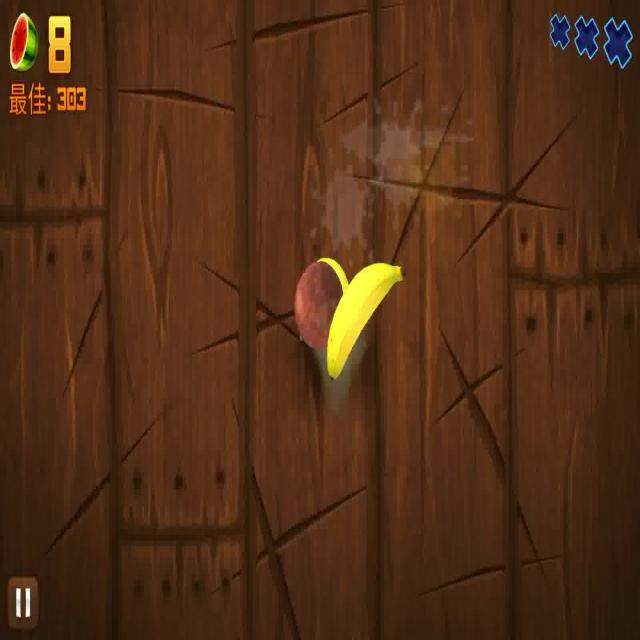fruit: (325, 224, 405, 384), (294, 252, 344, 346)
